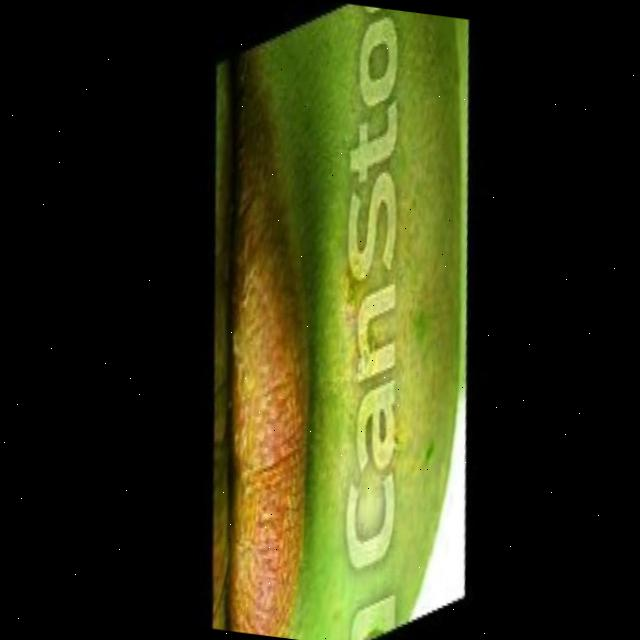Acne: (308, 103, 426, 381)
